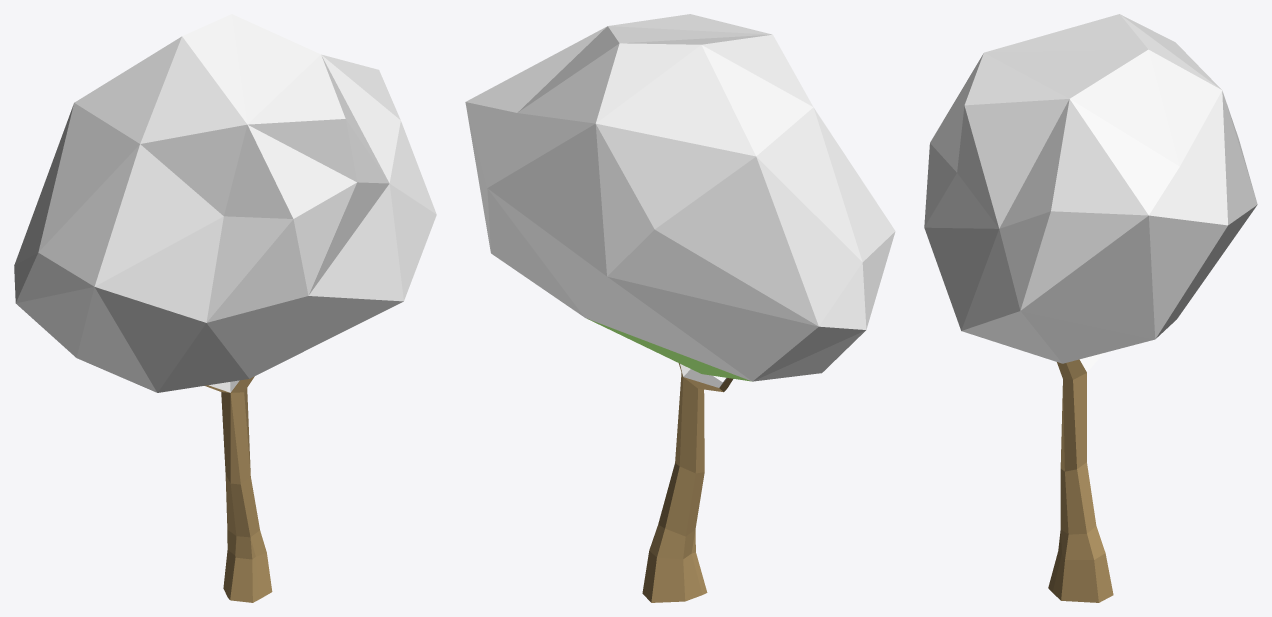
The model's file is Oak_Tree_l_Snow_04_LOD.fbx.
3 views of the same model, side by side, from view 1: azimuth 30°, elevation 25°; view 2: azimuth 150°, elevation 25°; view 3: azimuth 270°, elevation 25° (orthographic). The views are drawn at different scales.
Visible parts, largest first — view 1: Oak_Tree_l_Snow_04_LOD0; view 2: Oak_Tree_l_Snow_04_LOD0; view 3: Oak_Tree_l_Snow_04_LOD0.
Boxes of the visible parts, box(x1,y1,x2,y2) form: Oak_Tree_l_Snow_04_LOD0: box(14, 14, 436, 602); Oak_Tree_l_Snow_04_LOD0: box(465, 14, 895, 602); Oak_Tree_l_Snow_04_LOD0: box(924, 14, 1257, 602).
Size of what is drawn, in the model's own units: 795 by 1118 by 607.
